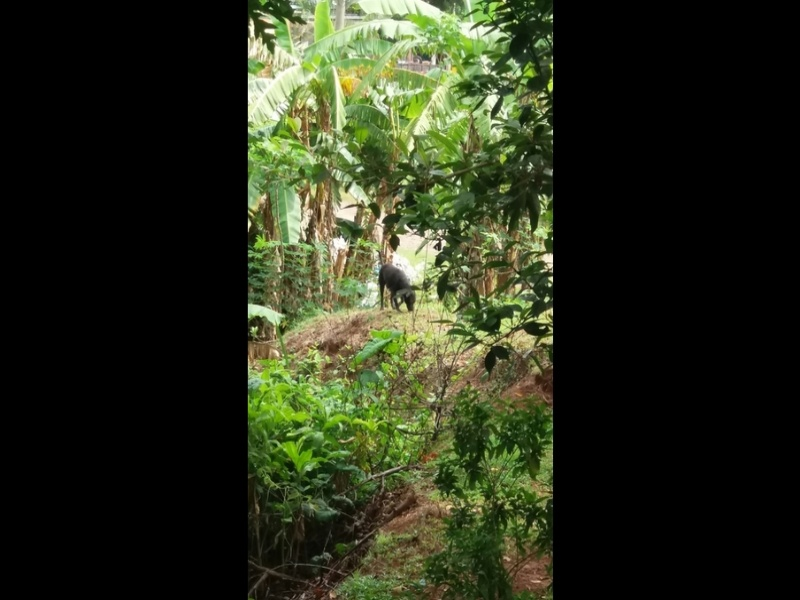dog: (371, 257, 418, 315)
